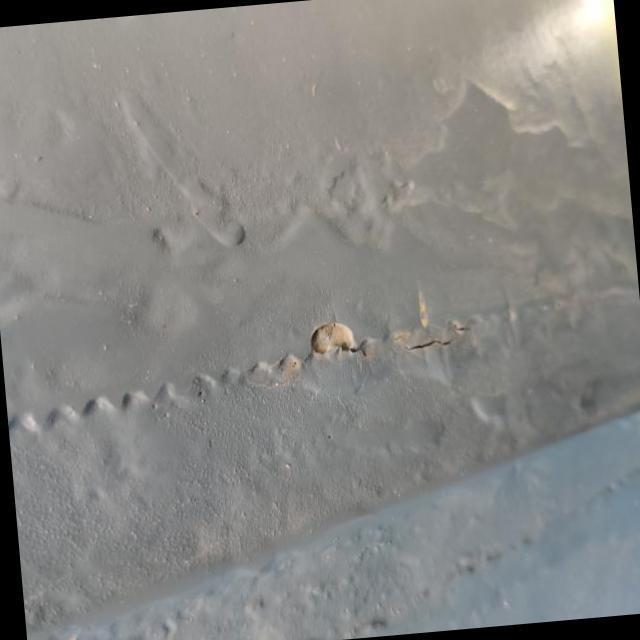Rupture: (277, 281, 482, 396)
